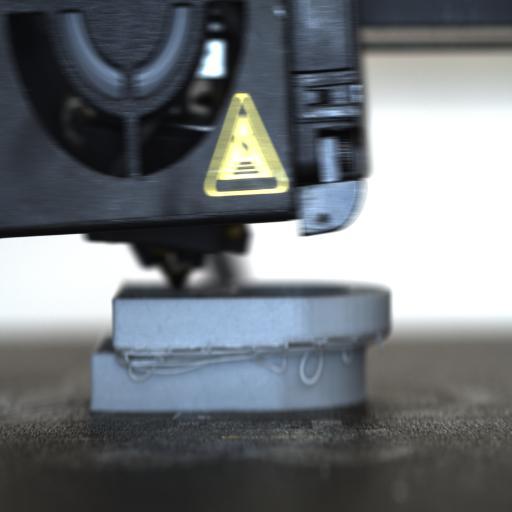layer_shift: (93, 329, 391, 359)
